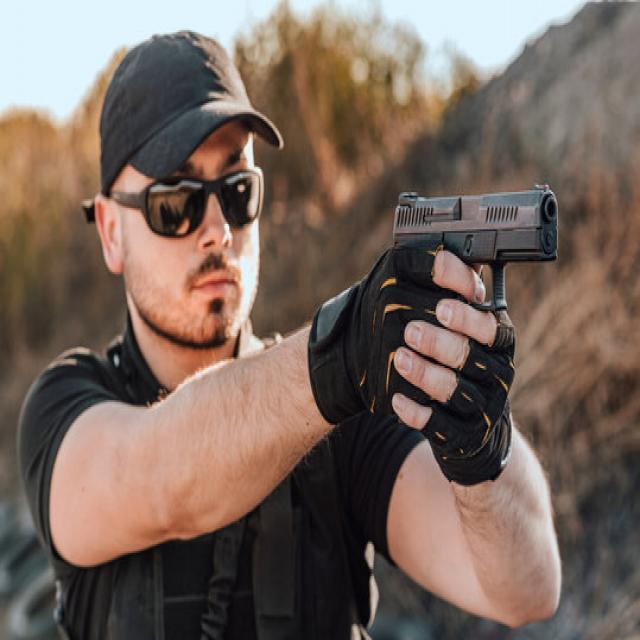gun: (394, 186, 563, 313)
